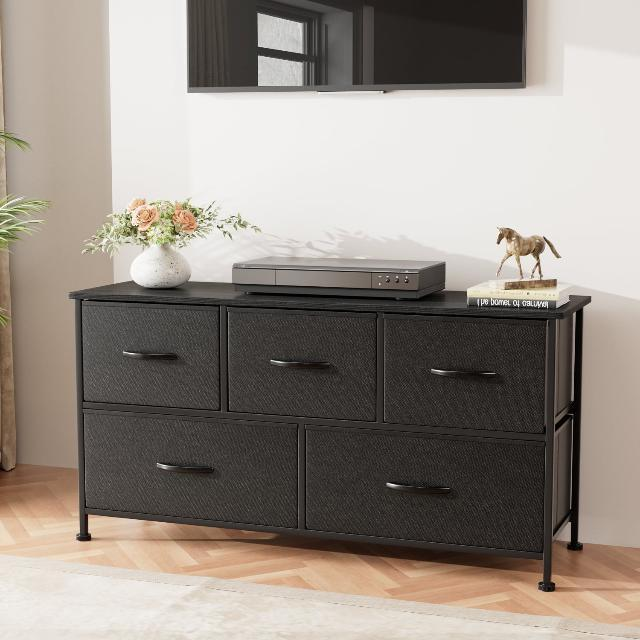dresser: (74, 273, 590, 596)
